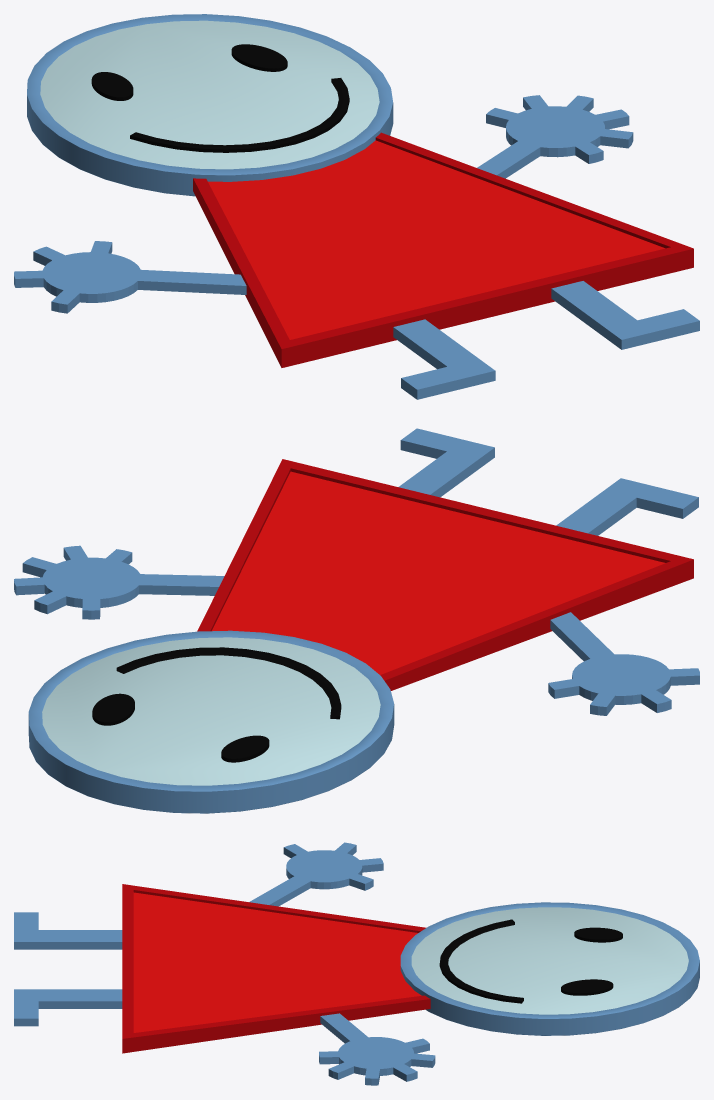
Rendered from Bubble guy.fbx.
3 views of the same model, one above another, from view 1: azimuth 30°, elevation 25°; view 2: azimuth 150°, elevation 25°; view 3: azimuth 270°, elevation 25° (orthographic). The views are drawn at different scales.
Visible parts, largest first — view 1: Body, Head, Right arm, Left arm, Left leg, Right leg; view 2: Body, Head, Left arm, Right arm, Right leg, Left leg; view 3: Body, Head, Left arm, Right arm, Left leg, Right leg.
Part boxes in pixels (bbox=[...]): Body: bbox=[193, 132, 693, 367]; Head: bbox=[27, 14, 393, 196]; Right arm: bbox=[14, 241, 246, 313]; Left arm: bbox=[477, 95, 633, 178]; Left leg: bbox=[551, 281, 699, 349]; Right leg: bbox=[393, 319, 495, 399]; Body: bbox=[197, 459, 693, 690]; Head: bbox=[28, 630, 394, 813]; Left arm: bbox=[14, 545, 224, 619]; Right arm: bbox=[548, 612, 699, 715]; Right leg: bbox=[556, 478, 698, 535]; Left leg: bbox=[398, 428, 494, 497]; Body: bbox=[122, 884, 430, 1053]; Head: bbox=[400, 902, 699, 1035]; Left arm: bbox=[319, 1013, 435, 1085]; Right arm: bbox=[249, 842, 383, 906]; Left leg: bbox=[14, 989, 122, 1026]; Right leg: bbox=[14, 912, 122, 949].
Size of the model in its own units: 505 by 15.63 by 411.
